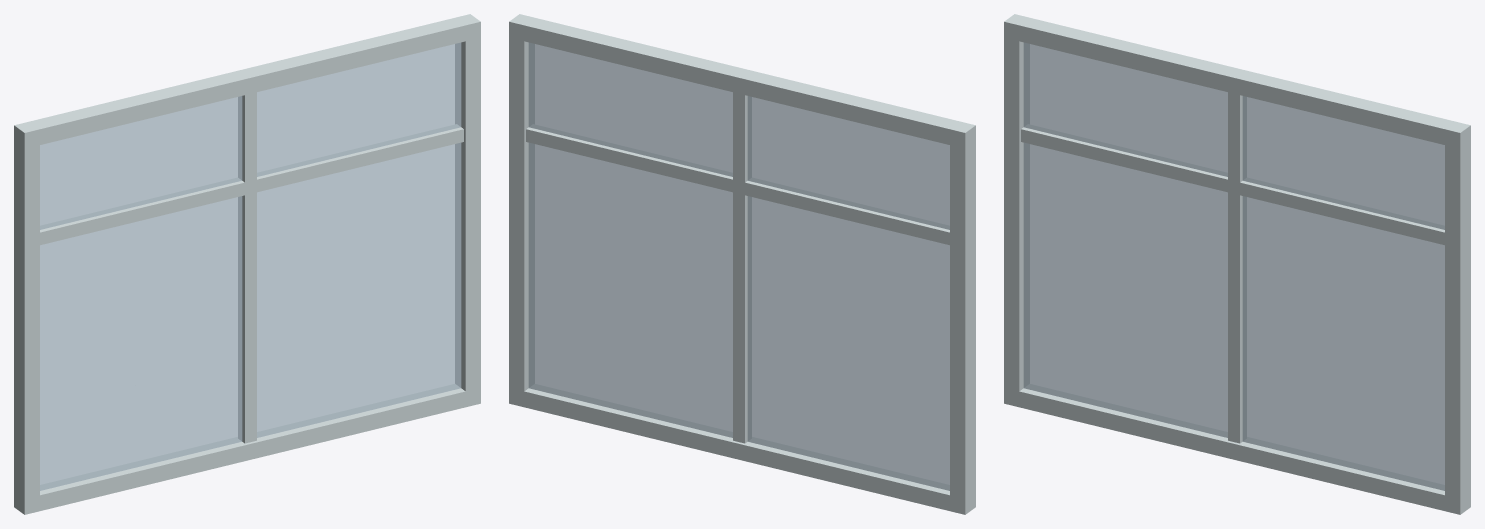
The model's file is window.gltf.
The picture shows the model from 3 angles, left to right: view 1: azimuth 30°, elevation 25°; view 2: azimuth 150°, elevation 25°; view 3: azimuth 330°, elevation 25°; orthographic projection.
Parts seen in each view (by area): view 1: window; view 2: window; view 3: window.
Boxes of the visible parts, x1=… form: window: x1=14, y1=14, x2=480, y2=514; window: x1=509, y1=14, x2=975, y2=514; window: x1=1004, y1=14, x2=1470, y2=514.
Bounding box in the file's own units: 1.5 × 1.2 × 0.06.
